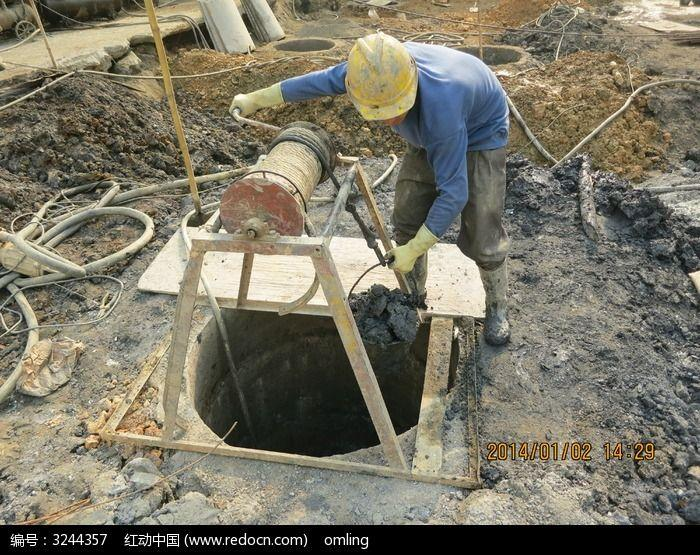helmet: (344, 33, 419, 127)
